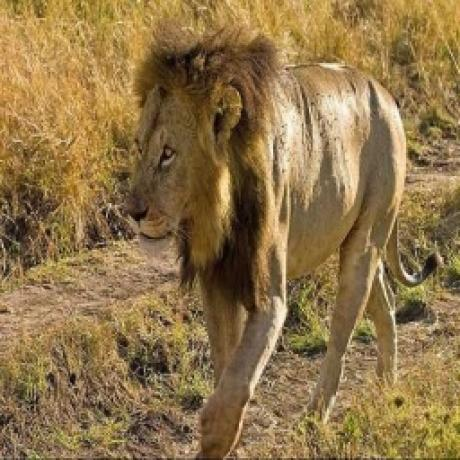Lion: (104, 9, 428, 460)
